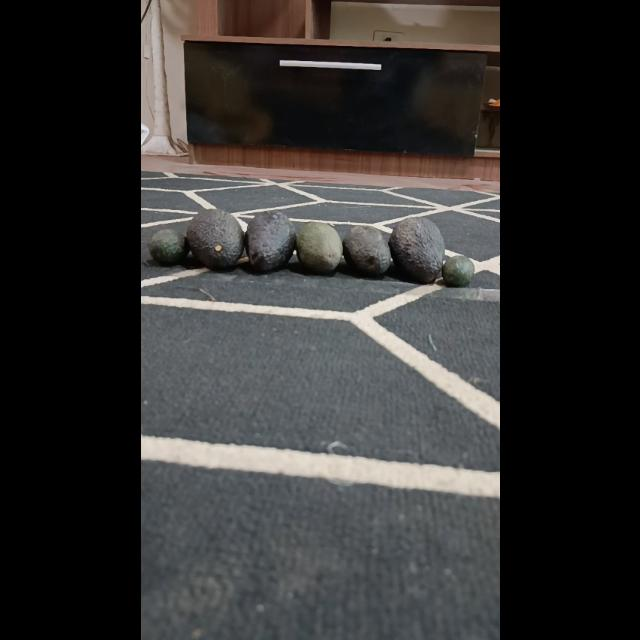Primera: (388, 216, 444, 284), (184, 208, 243, 270), (244, 210, 296, 272)
Segunda: (296, 220, 344, 274), (342, 224, 391, 276)
Tercera: (146, 228, 188, 266), (441, 255, 473, 288)
